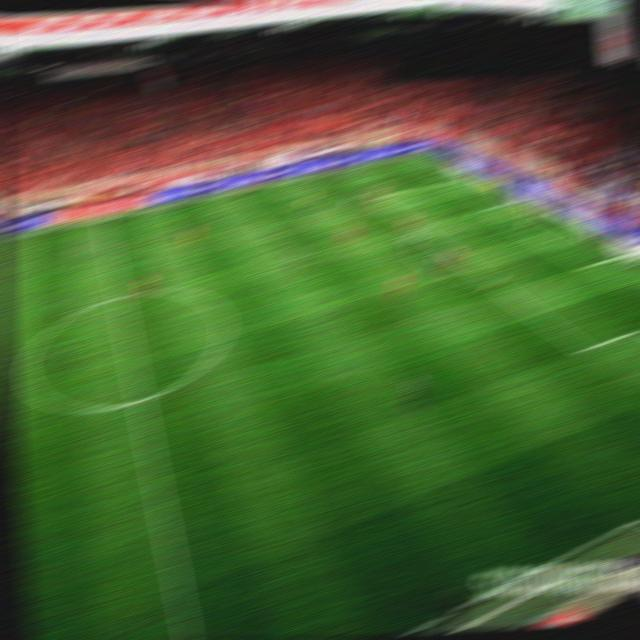bigarea_bottom_inner: (574, 345, 595, 356)
bigarea_top_inner: (363, 193, 384, 204)
bigarea_top_outter: (458, 171, 480, 182)
bottom_arc_area_intersection: (482, 277, 503, 288)
corner: (410, 150, 432, 160)
halfcircle_bottom: (130, 394, 151, 406)
halfcircle_top: (109, 292, 130, 302)
midline_top_intersection: (94, 214, 115, 224)
smallarea_bottom_inner: (575, 262, 596, 272)
smallarea_bottom_outter: (614, 251, 634, 261)
smallarea_top_inner: (473, 204, 494, 215)
smallarea_top_outter: (505, 197, 526, 207)
top_arc_area_intersection: (408, 225, 429, 236)
